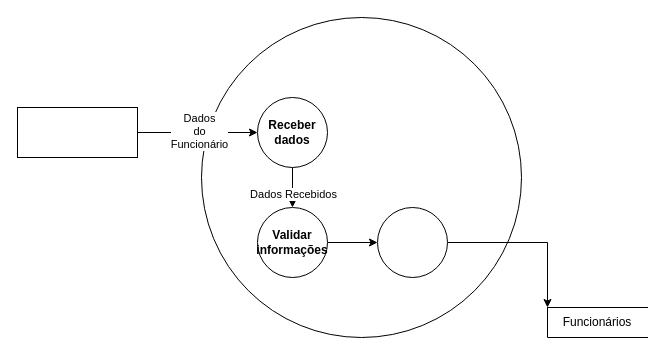
This 665x355 diagram has some shape labels left out. The centre of each missing label's shape, as x and y in pixels:
Empresa: pixel 77 132
Gravar Funcionário do Banco: pixel 412 242
